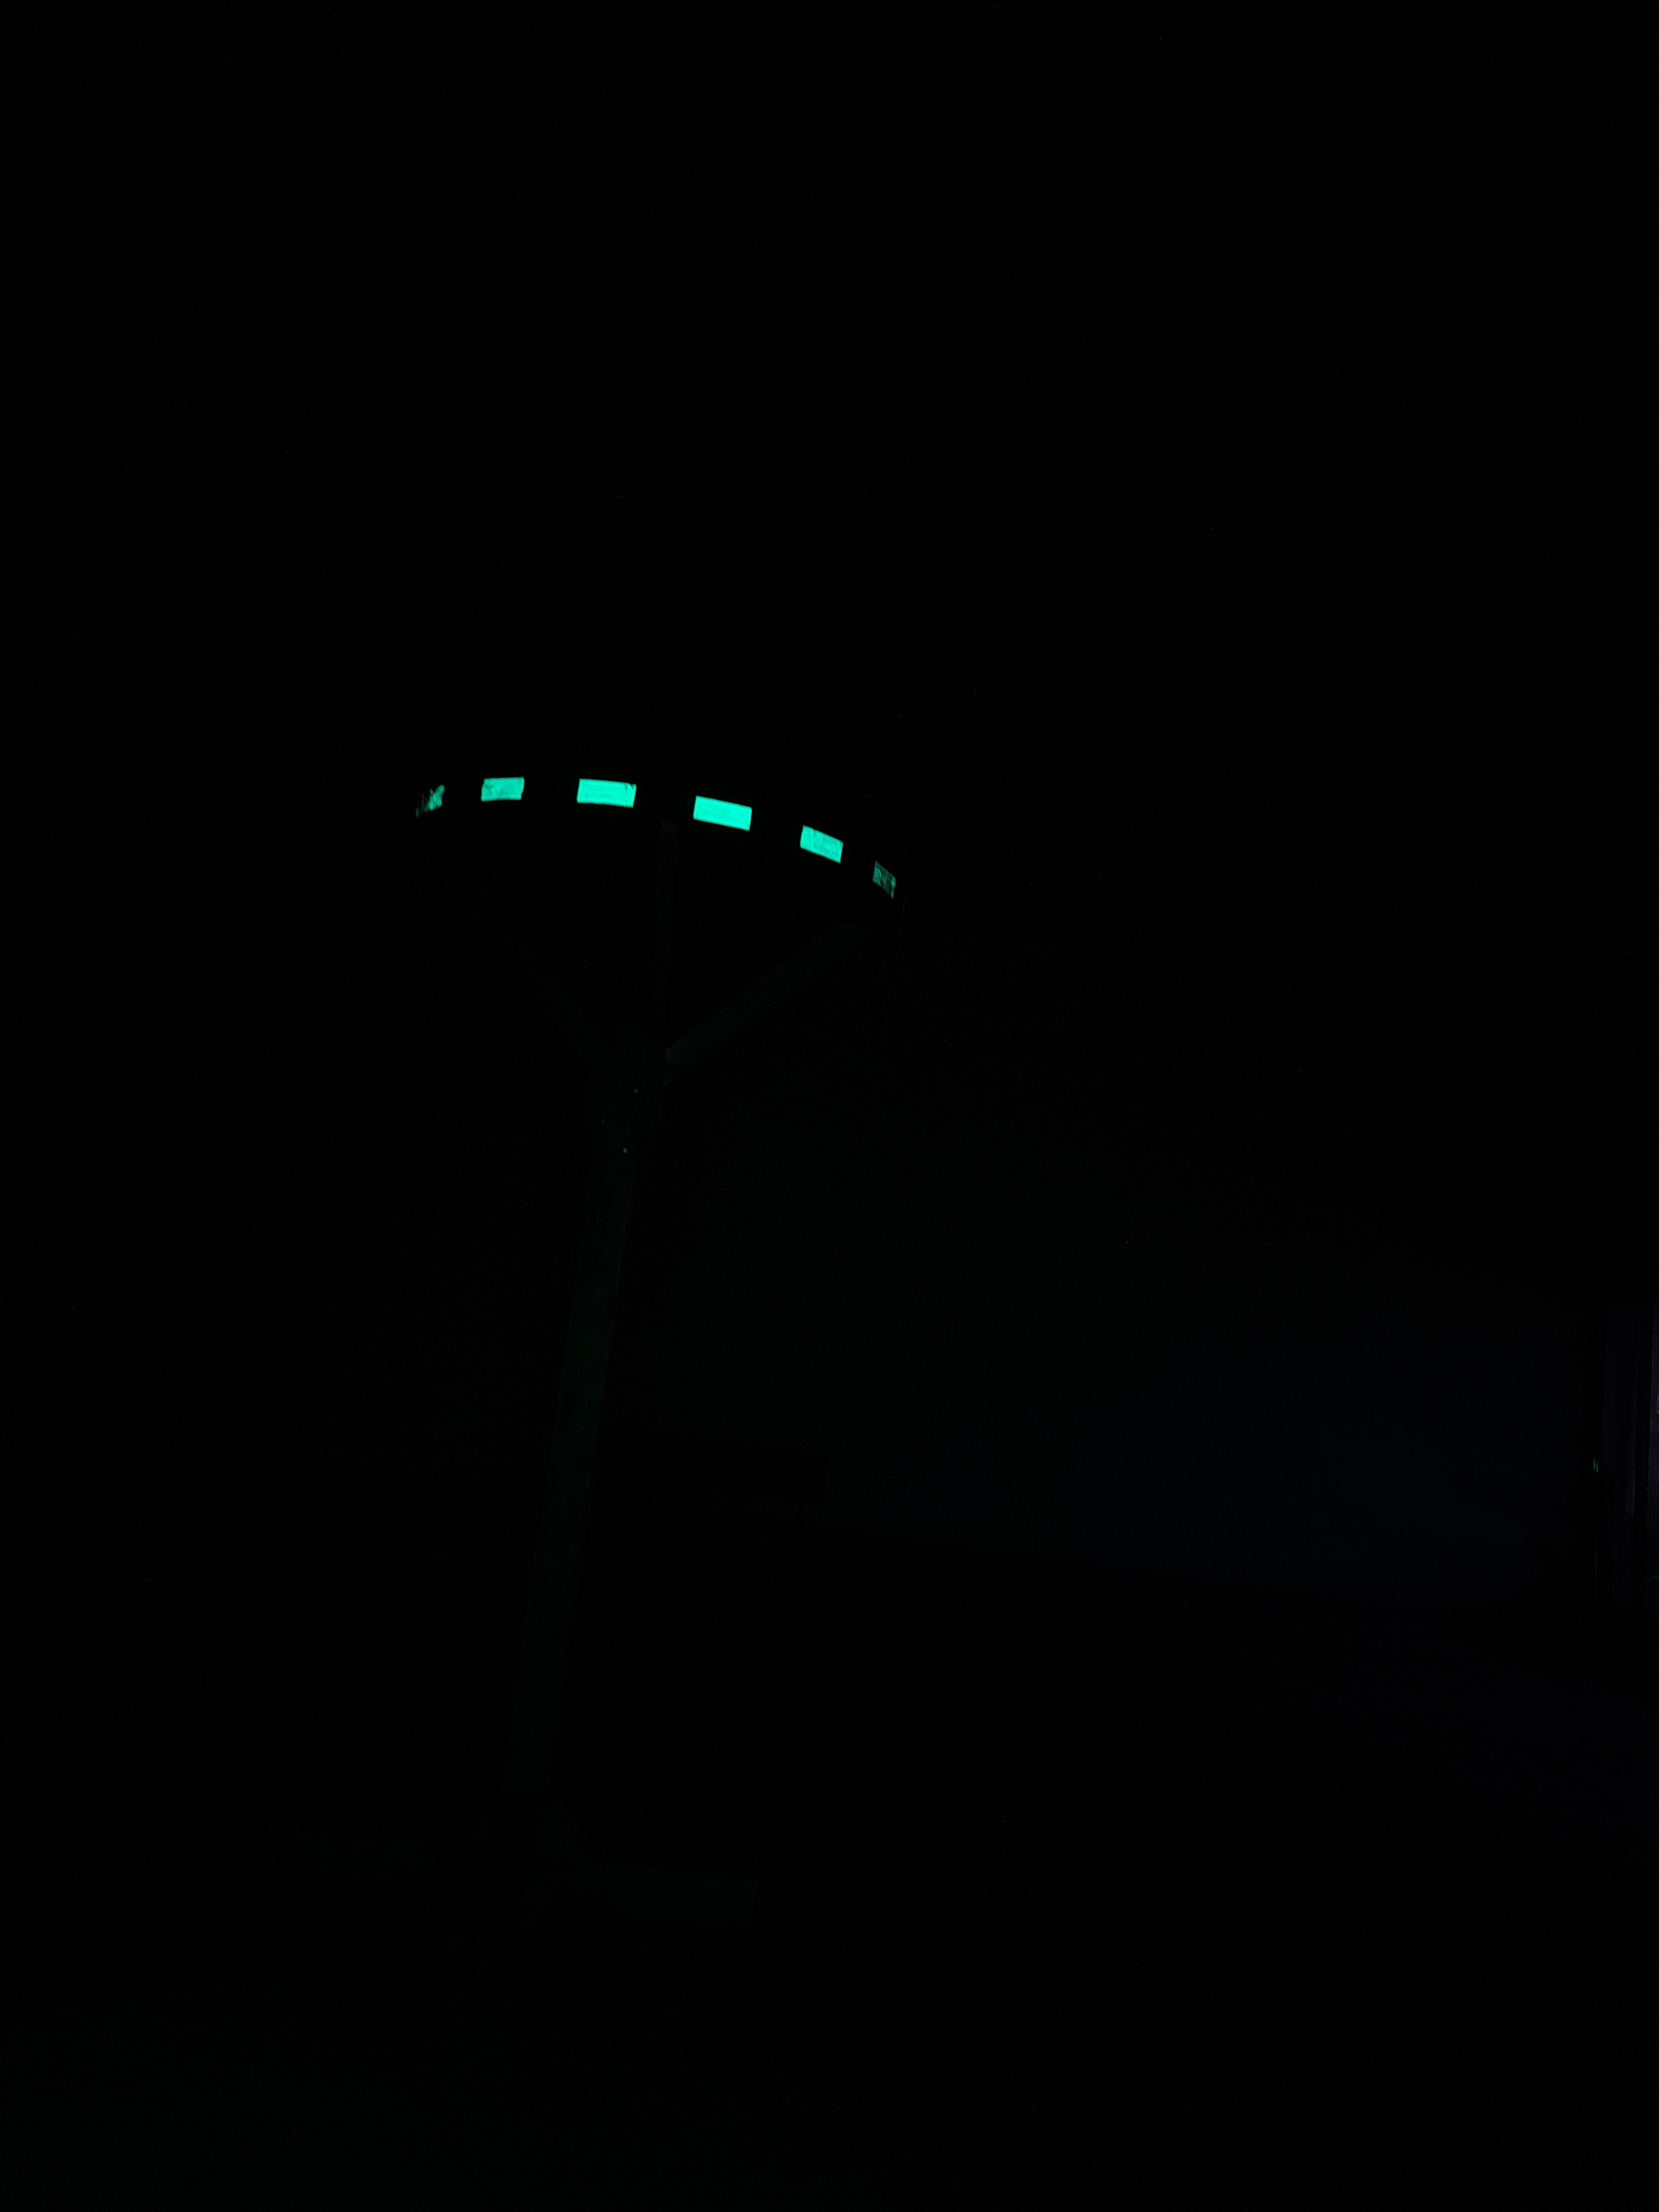hoop: (401, 752, 910, 914)
